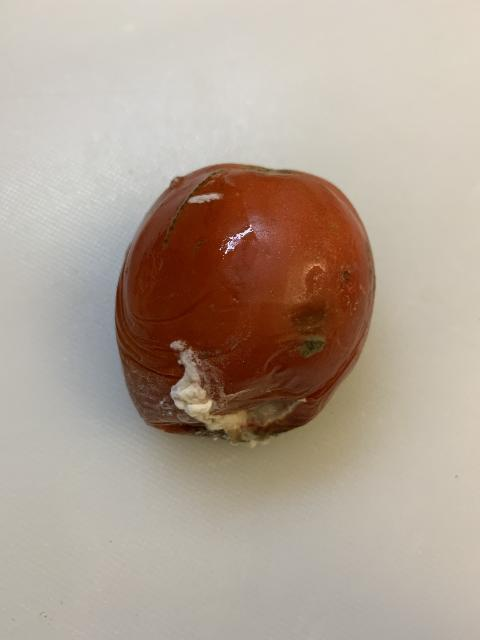defect: (105, 149, 389, 465)
